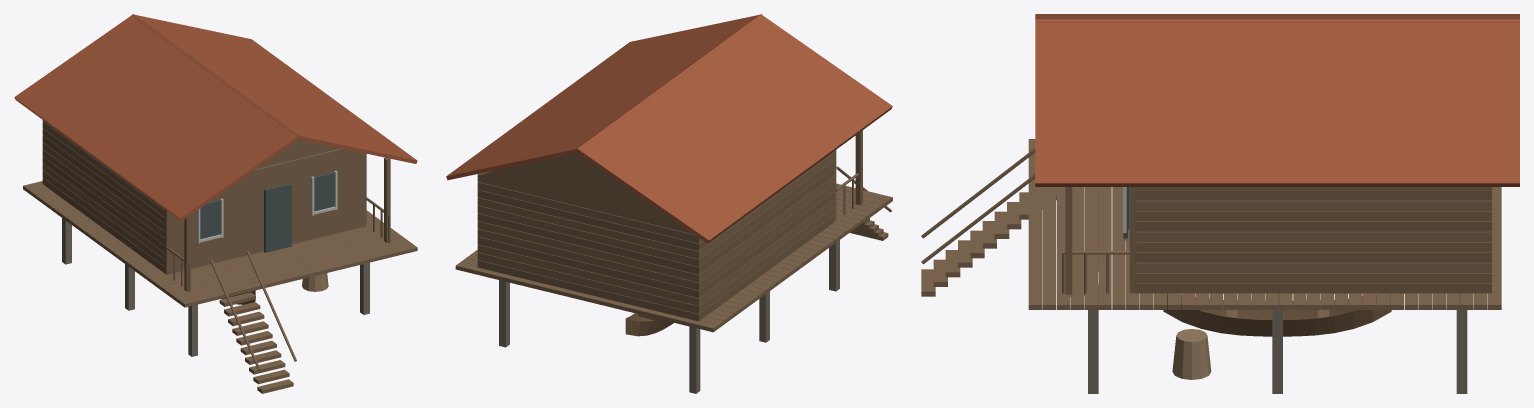
Rendered from thai_stilt_b.glb.
3 views of the same model, side by side, from view 1: azimuth 30°, elevation 25°; view 2: azimuth 150°, elevation 25°; view 3: azimuth 270°, elevation 25° (orthographic). The views are drawn at different scales.
Parts seen in each view (by area): view 1: thai_stilt_b; view 2: thai_stilt_b; view 3: thai_stilt_b.
Boxes of the visible parts, x1,y1,x2,y2 form: thai_stilt_b: [14, 14, 417, 393]; thai_stilt_b: [446, 14, 892, 393]; thai_stilt_b: [921, 14, 1519, 393].
Bounding box in the file's own units: 7.19 × 6.16 × 10.75.
